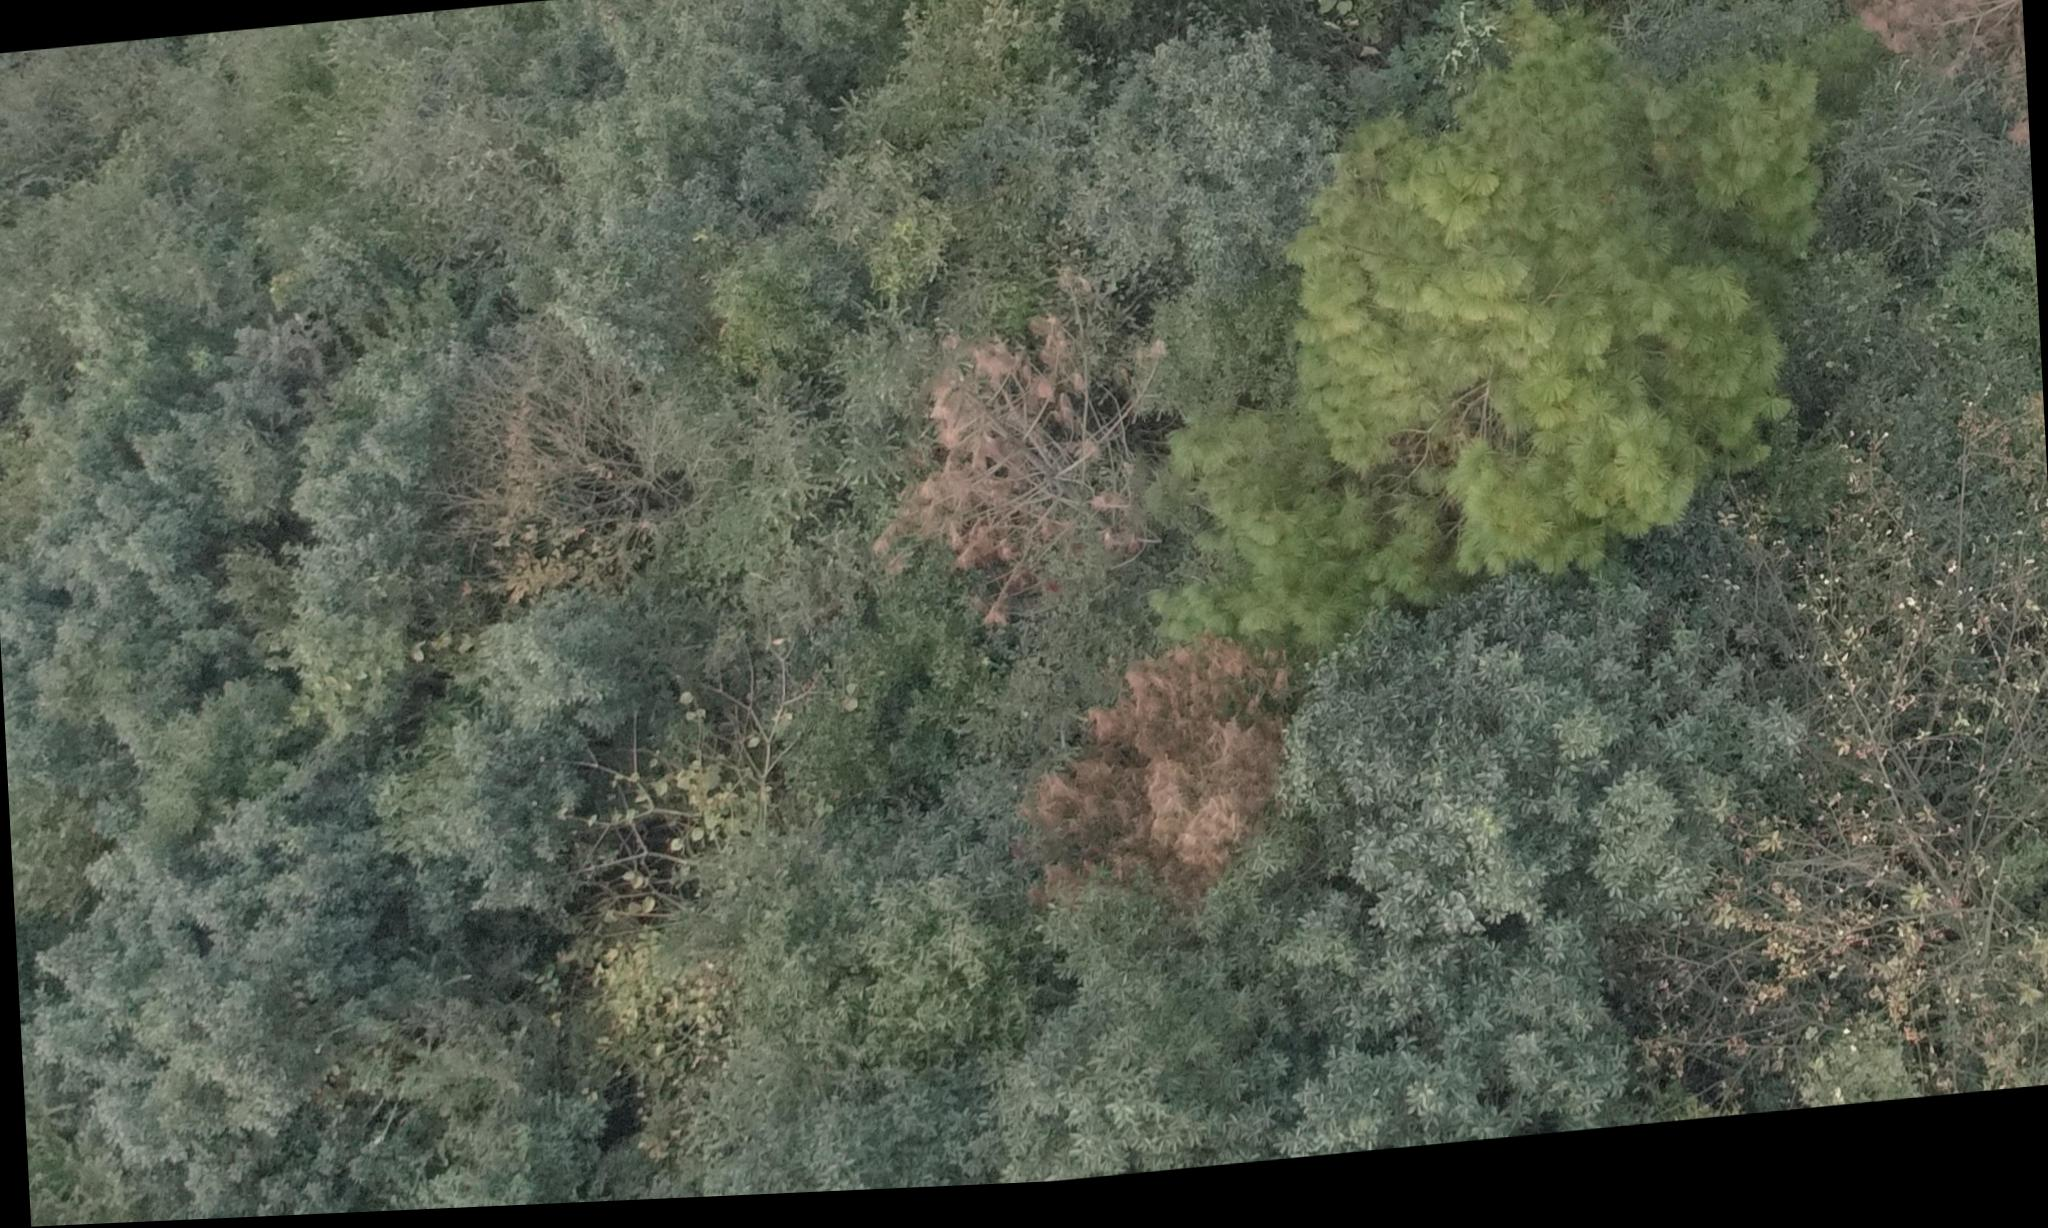dead: (877, 322, 1168, 621)
heavy: (1009, 646, 1294, 918), (1824, 0, 2025, 117)
